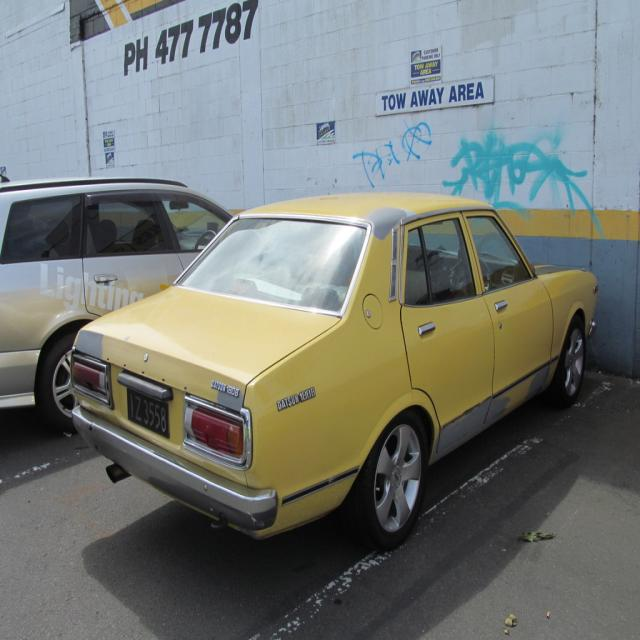car: (70, 189, 596, 549)
